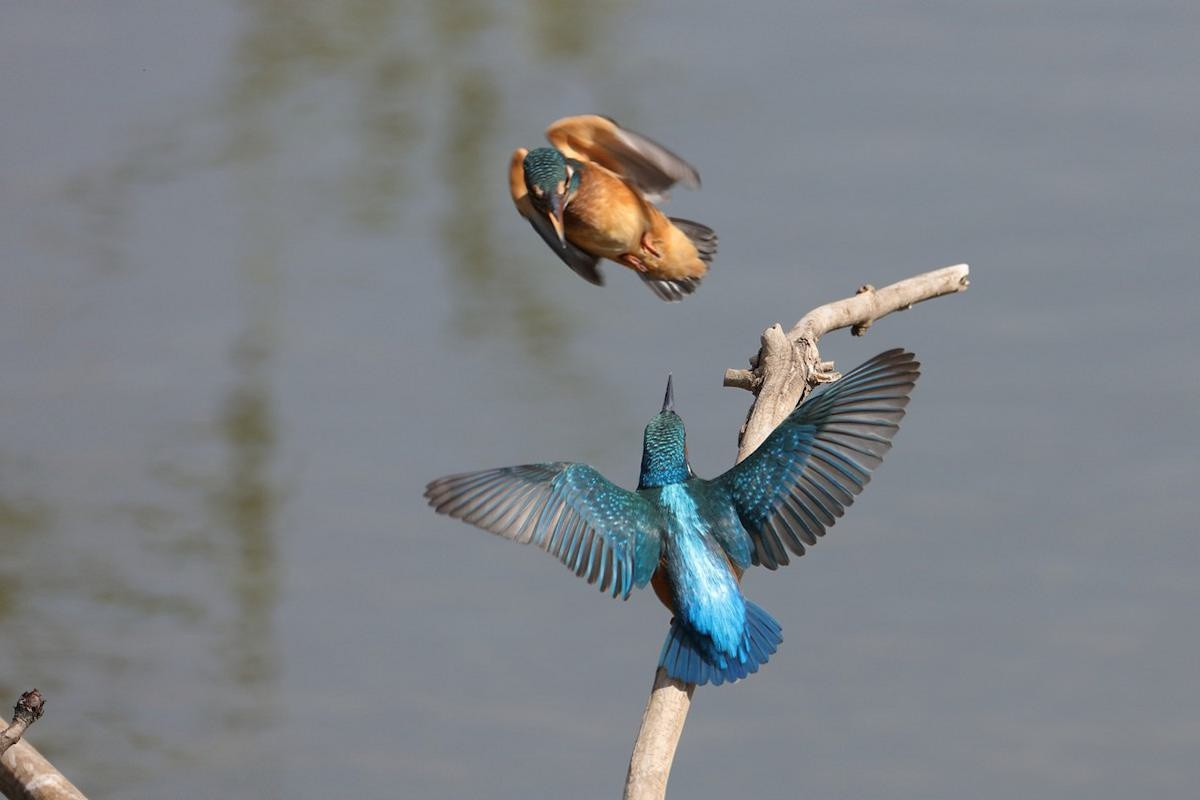kingfisher: (434, 333, 912, 714), (488, 97, 753, 334)
